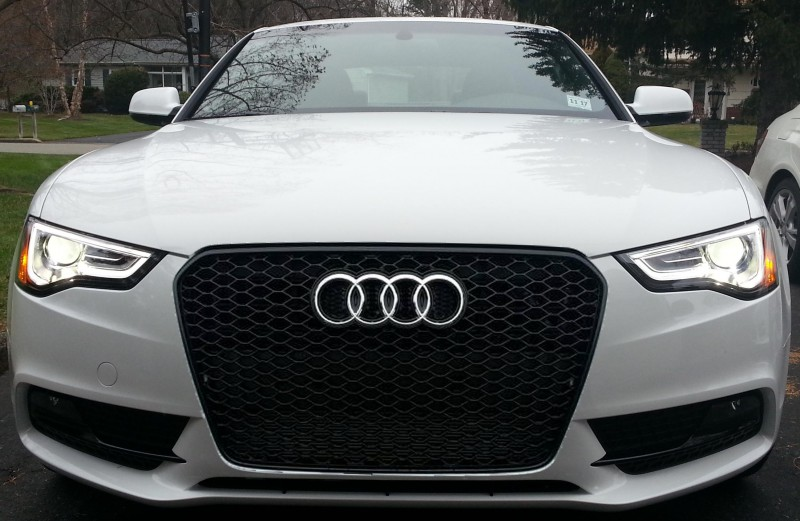audi: (293, 258, 479, 343)
